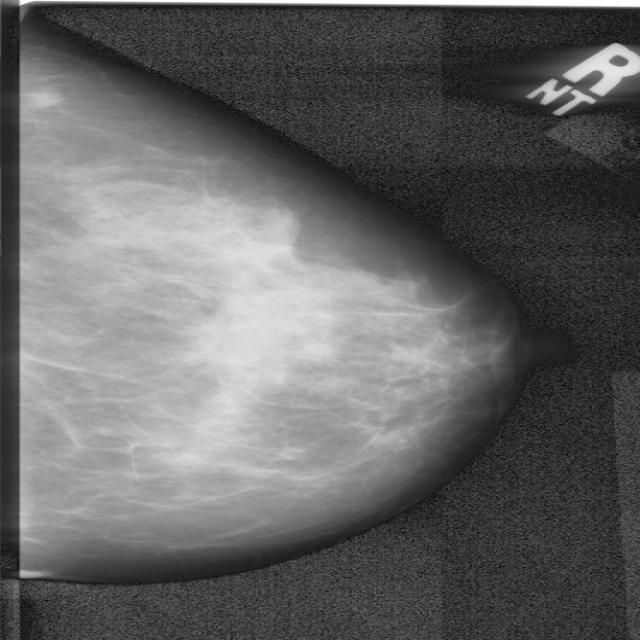tumour: (19, 88, 63, 106)
